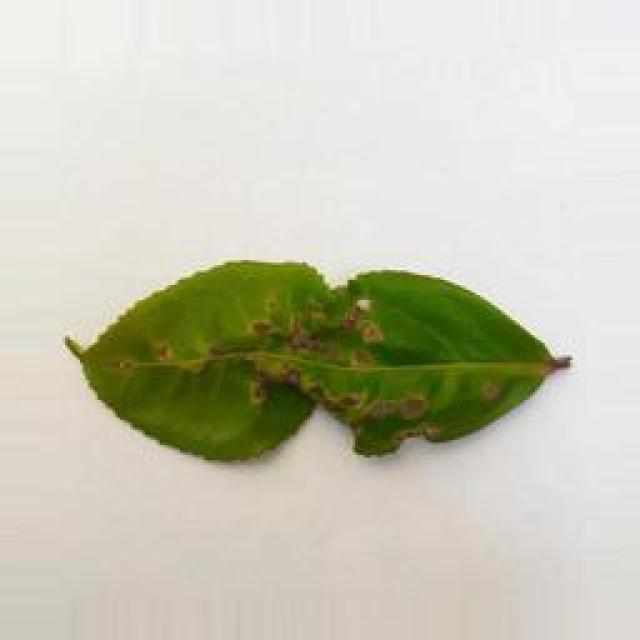Helopeltis: (58, 245, 574, 498)
